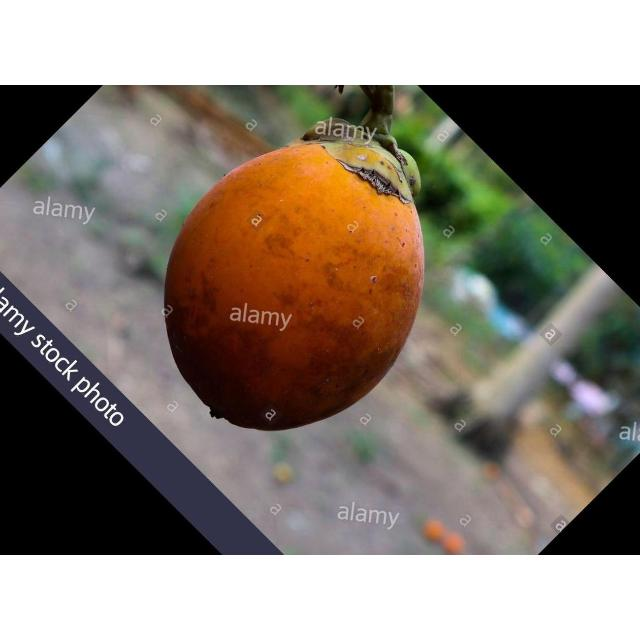good: (162, 120, 425, 434)
